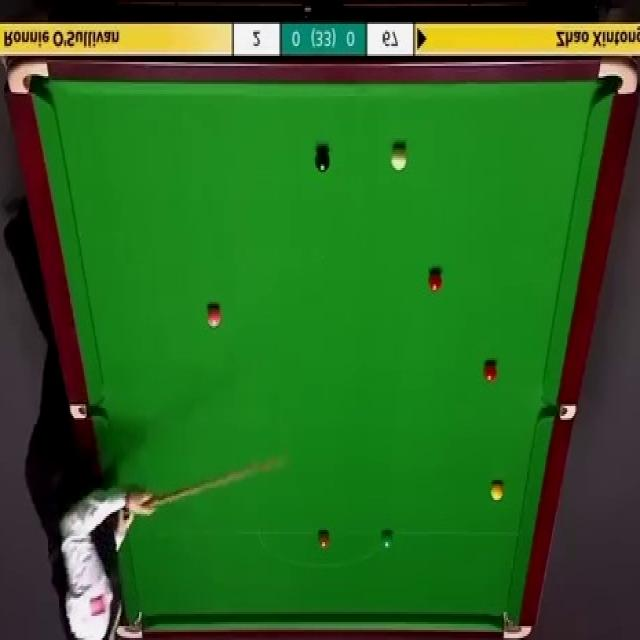pocket: (597, 56, 639, 98), (10, 55, 48, 97), (502, 608, 532, 640), (540, 403, 576, 422), (120, 612, 143, 638), (67, 405, 105, 420)
